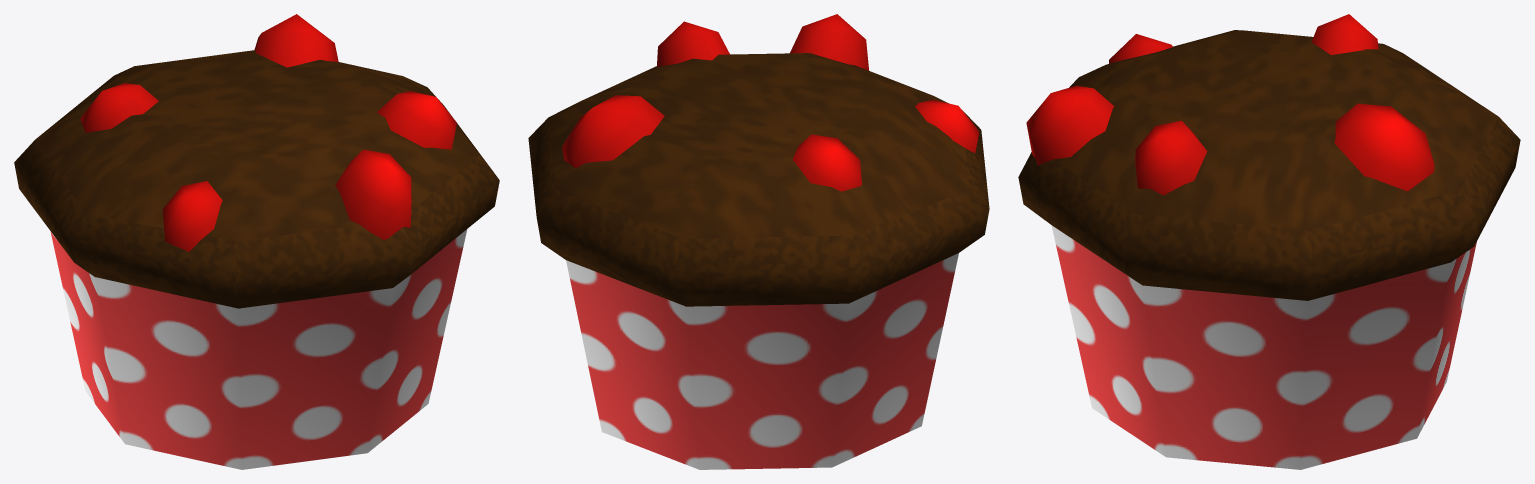
The model's file is Muffin_B_02.FBX.
The picture shows the model from 3 angles, left to right: view 1: azimuth 30°, elevation 25°; view 2: azimuth 150°, elevation 25°; view 3: azimuth 270°, elevation 25°; orthographic projection. The views are drawn at different scales.
Parts seen in each view (by area): view 1: Muffin; view 2: Muffin; view 3: Muffin.
Part boxes in pixels (x1,y1,x2,y2): Muffin: (14,14,499,469); Muffin: (528,14,989,469); Muffin: (1018,14,1520,469).
Size of the model in its own units: 36.61 by 26.52 by 36.61.
